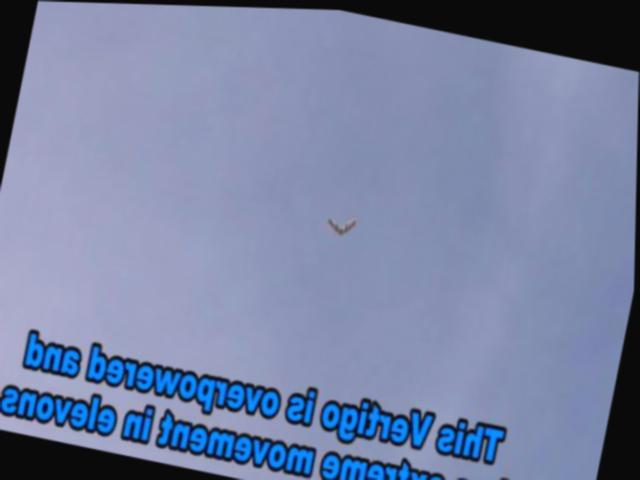flying wing: (323, 210, 360, 240)
